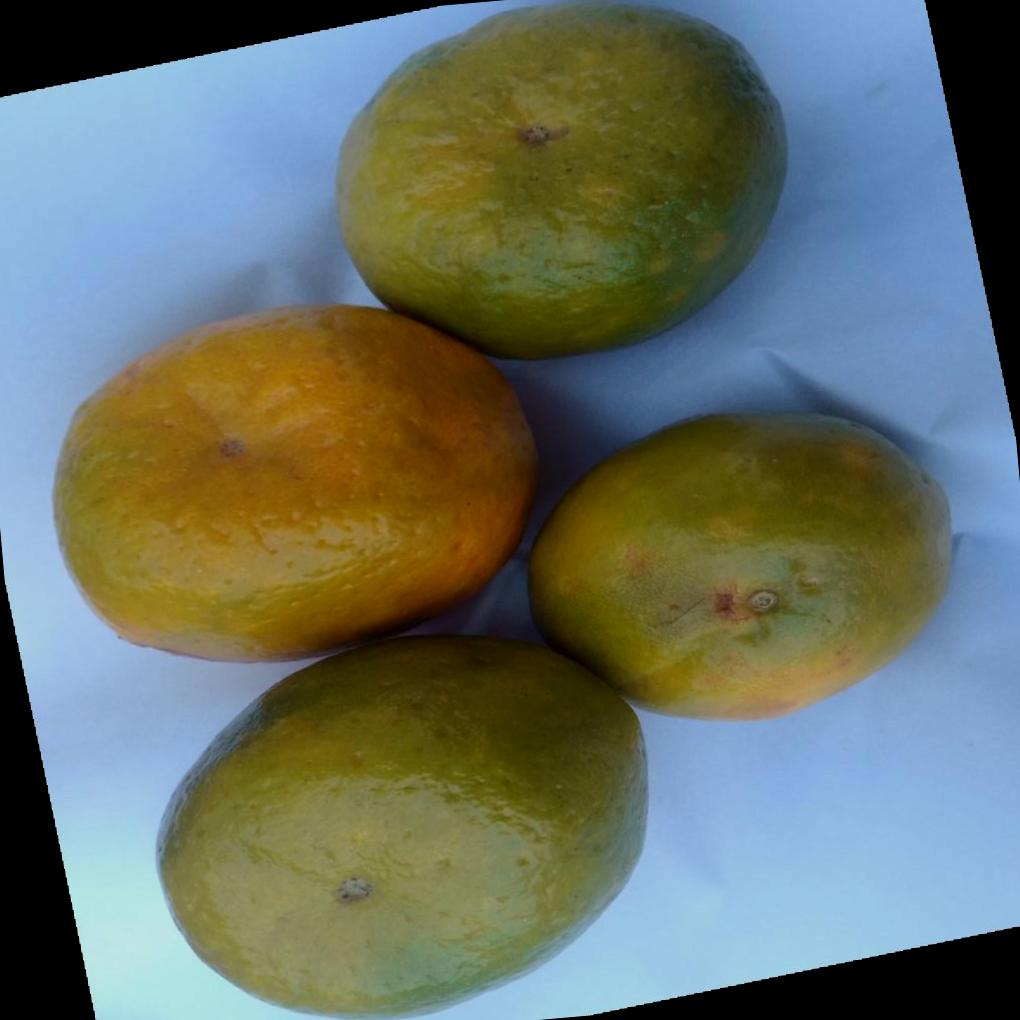FreshGuava: (54, 0, 959, 1020)
